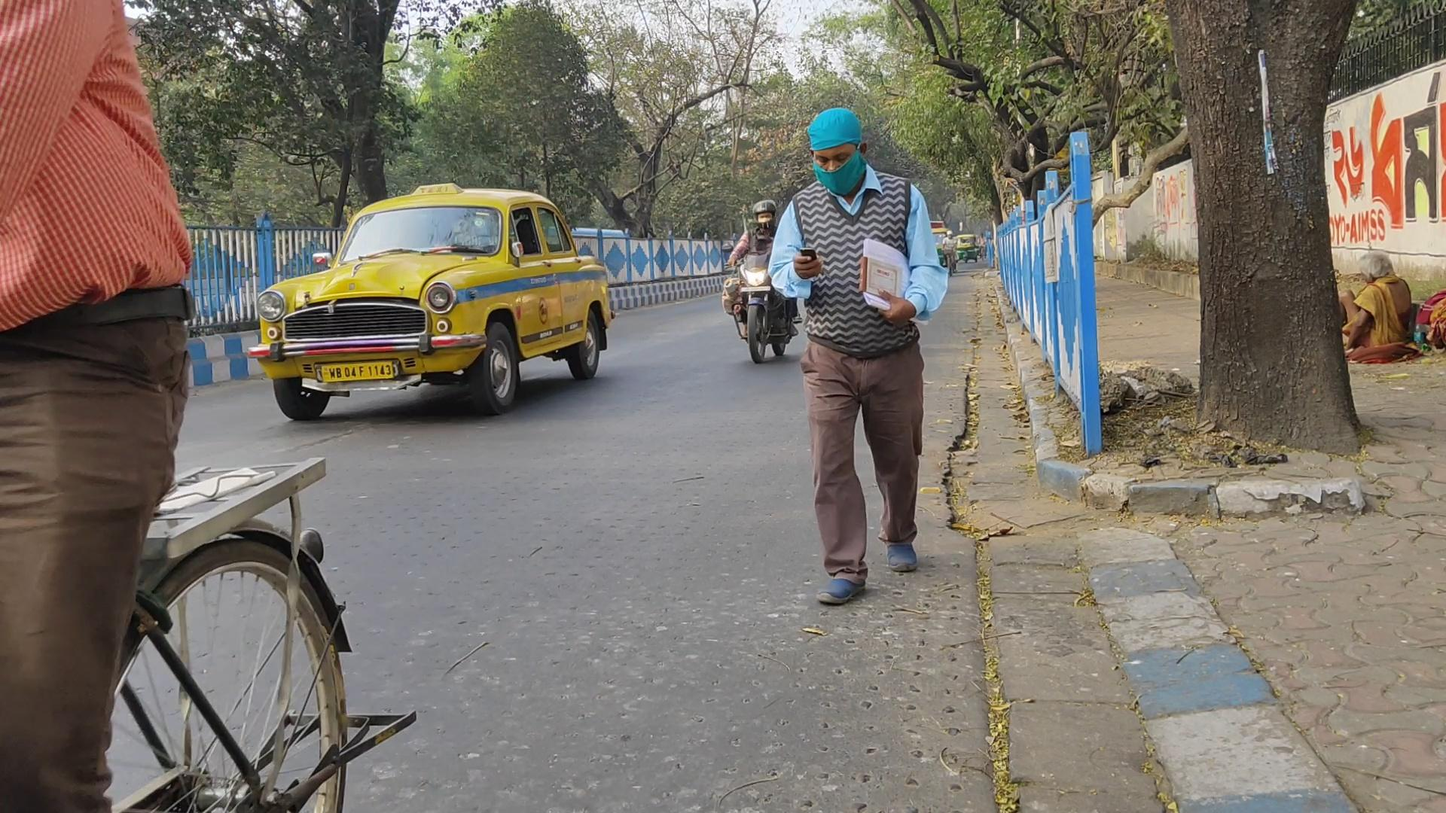Auto: (956, 233, 978, 265)
bike: (721, 199, 804, 364), (942, 230, 959, 277)
car: (246, 182, 616, 422)
